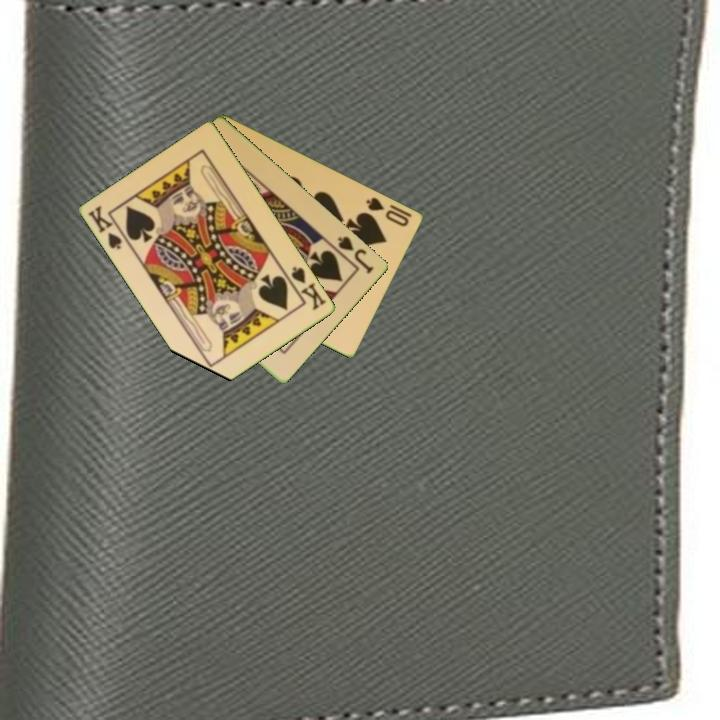10s: (363, 194, 412, 229)
Js: (334, 232, 377, 277)
Ks: (282, 263, 330, 313), (85, 202, 132, 253)
